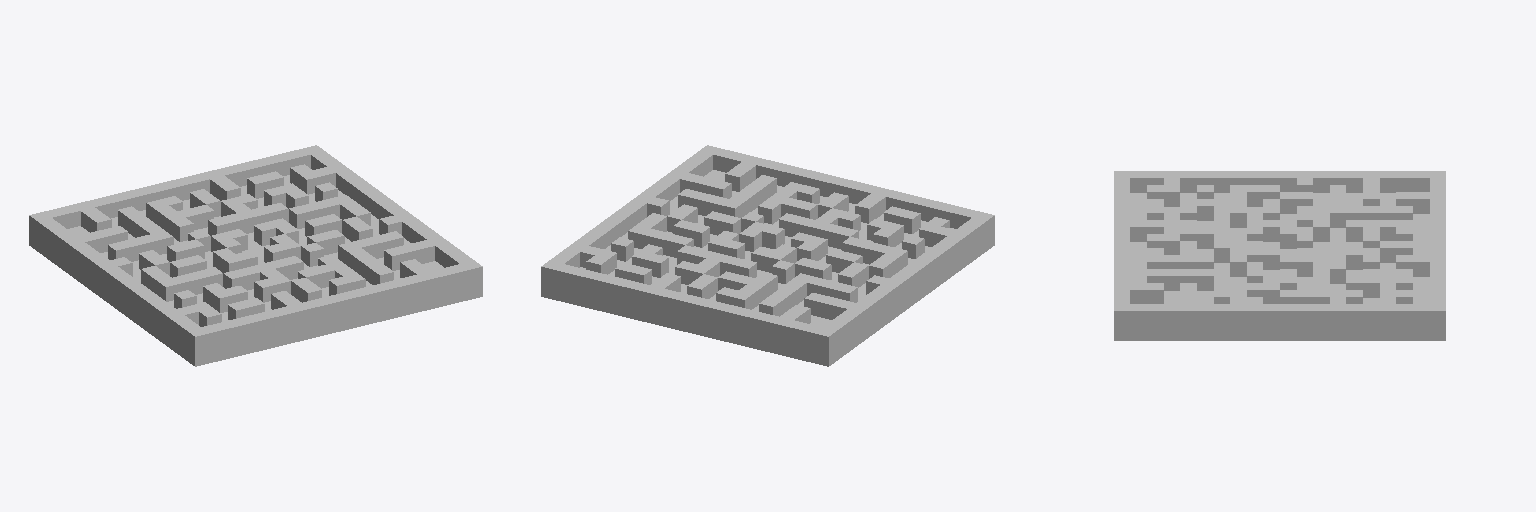
Rendered from Maze.obj.
3 views of the same model, side by side, from view 1: azimuth 30°, elevation 25°; view 2: azimuth 150°, elevation 25°; view 3: azimuth 270°, elevation 25° (orthographic).
Parts seen in each view (by area): view 1: pCube4; view 2: pCube4; view 3: pCube4.
Part boxes in pixels (x1,y1,x2,y2): pCube4: (29, 145, 482, 366); pCube4: (541, 145, 994, 366); pCube4: (1114, 171, 1445, 340).
Bounding box in the file's own units: 100 × 10 × 100.